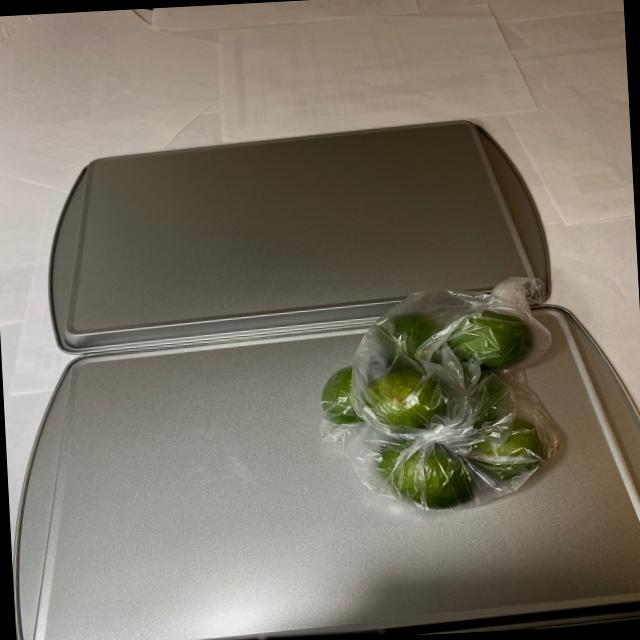lemon: (324, 301, 558, 516)
